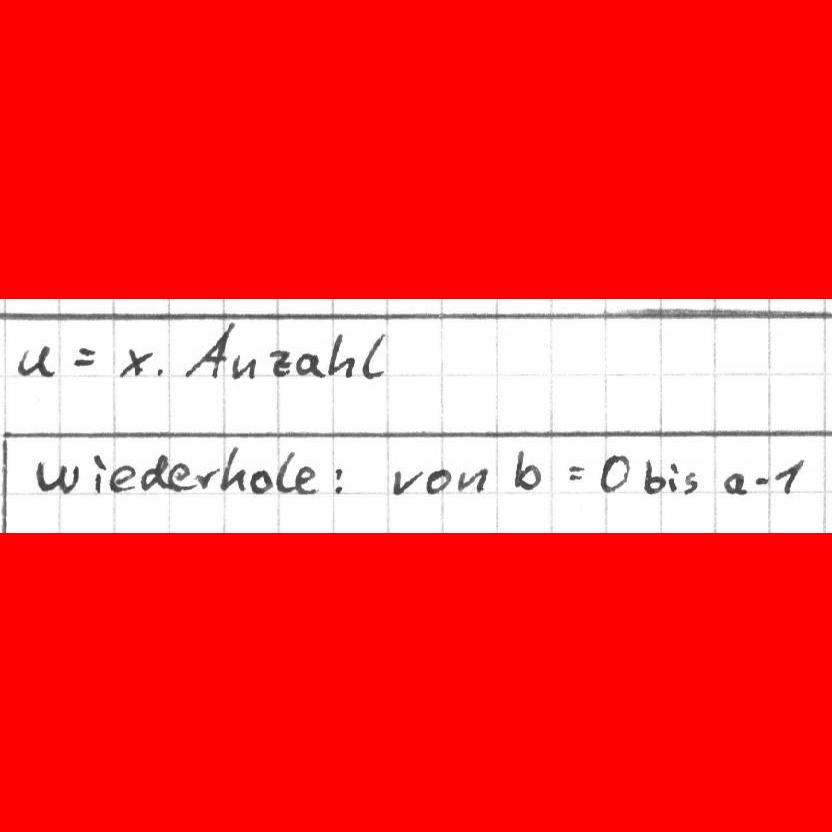Char: (185, 321, 230, 378), (31, 459, 80, 497), (16, 341, 56, 379), (597, 451, 630, 495), (218, 443, 246, 494), (328, 330, 356, 380), (511, 447, 540, 493), (361, 331, 387, 381), (117, 344, 152, 379), (772, 458, 804, 495), (140, 452, 168, 494), (390, 466, 422, 498), (456, 465, 487, 496), (642, 457, 665, 495), (295, 351, 325, 379), (109, 464, 136, 493), (277, 451, 295, 494), (168, 462, 193, 492), (269, 347, 293, 377), (72, 344, 98, 369), (250, 467, 272, 496), (425, 469, 450, 494), (91, 453, 106, 494), (721, 471, 746, 495), (296, 468, 318, 494), (195, 465, 217, 491), (231, 357, 257, 379), (330, 463, 346, 493), (564, 462, 587, 482), (681, 471, 699, 494), (668, 461, 680, 492), (753, 473, 771, 488), (152, 363, 169, 378)
